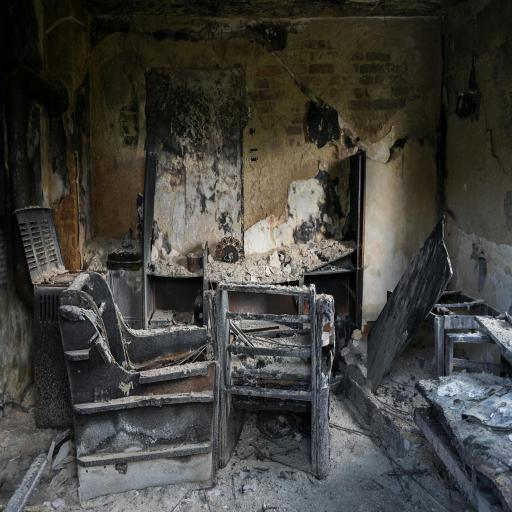buildingfire: (3, 3, 512, 512)
